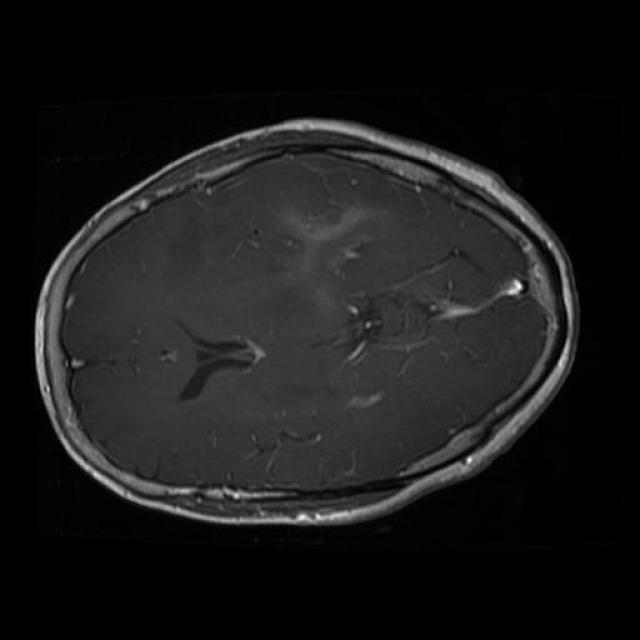Glioma: (271, 203, 386, 289)
